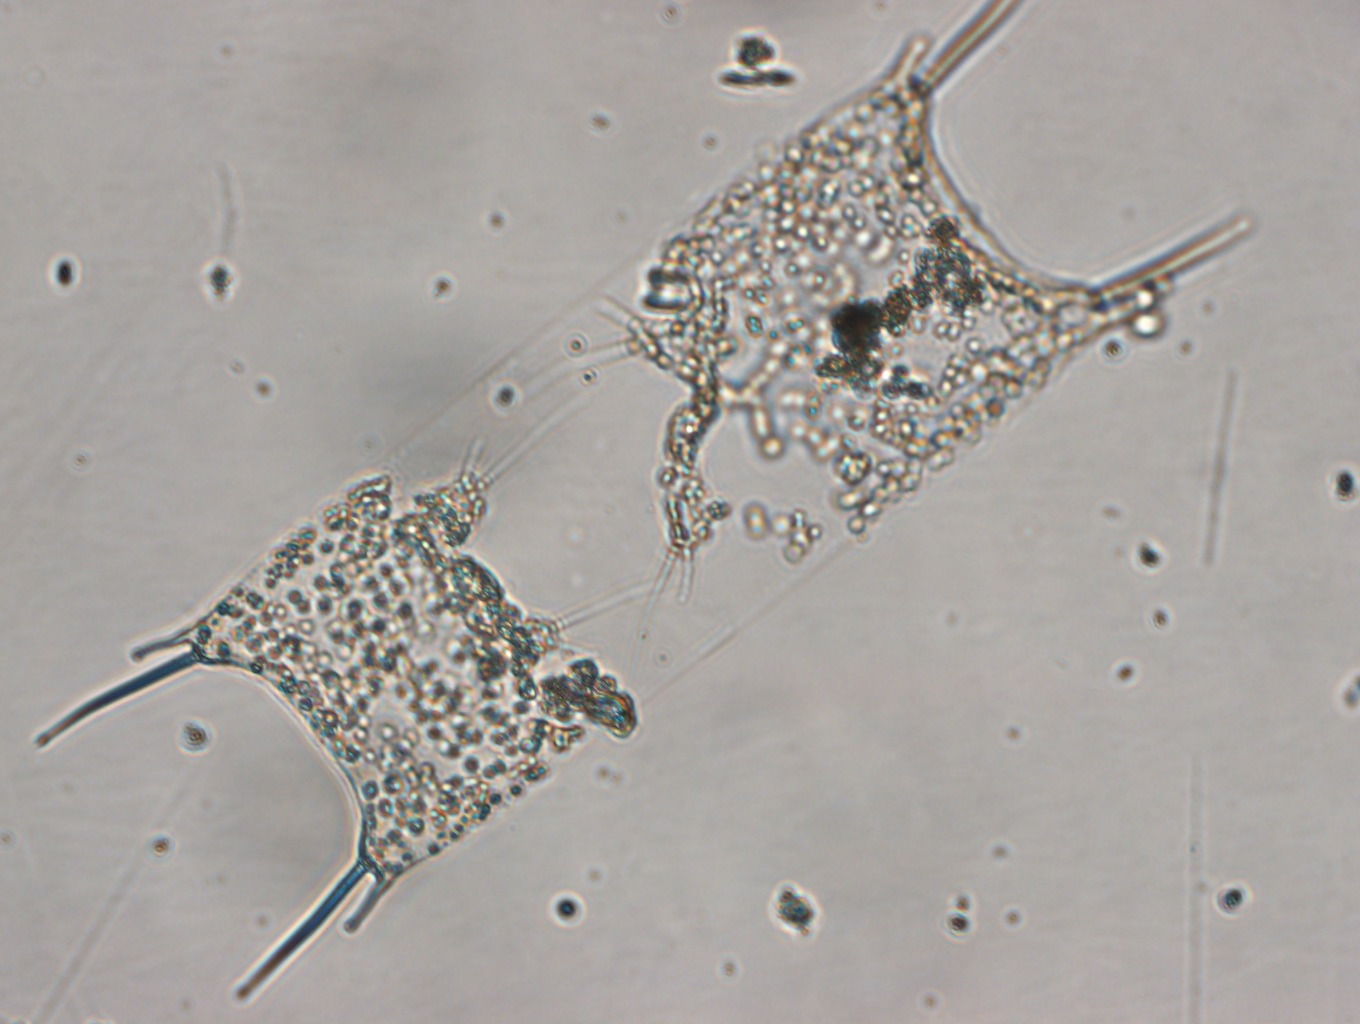biddulphia: (31, 1, 1261, 1002)
